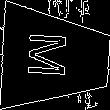M_E: (31, 33, 80, 83)
